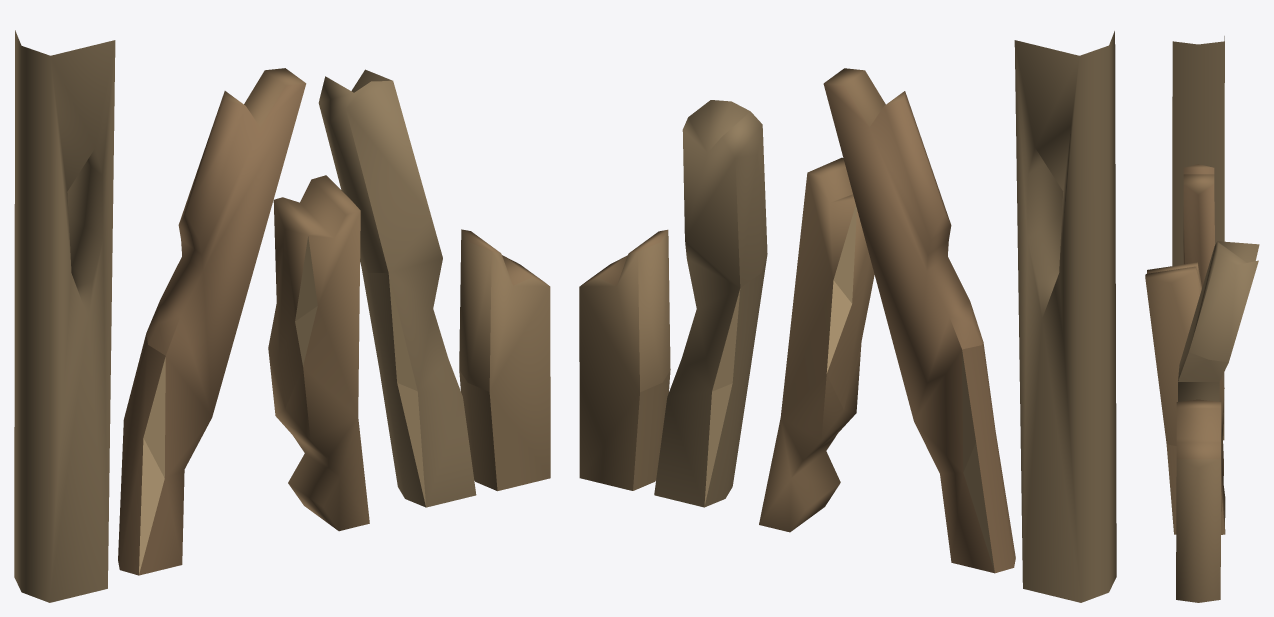
The model's file is rpgpp_av_wall_02_3x3_g.gltf.
3 renders of one model, left to right at view 1: azimuth 30°, elevation 25°; view 2: azimuth 150°, elevation 25°; view 3: azimuth 270°, elevation 25°, orthographic. The views are drawn at different scales.
Parts seen in each view (by area): view 1: rpgpp_av_wall_02_3x3_g; view 2: rpgpp_av_wall_02_3x3_g; view 3: rpgpp_av_wall_02_3x3_g.
Part boxes in pixels (x1,y1,x2,y2): rpgpp_av_wall_02_3x3_g: (14,30,550,602); rpgpp_av_wall_02_3x3_g: (579,31,1116,602); rpgpp_av_wall_02_3x3_g: (1145,36,1259,602).
Bounding box in the file's own units: 0.03 × 0.03 × 0.00773.
1 material, 1 textured.
